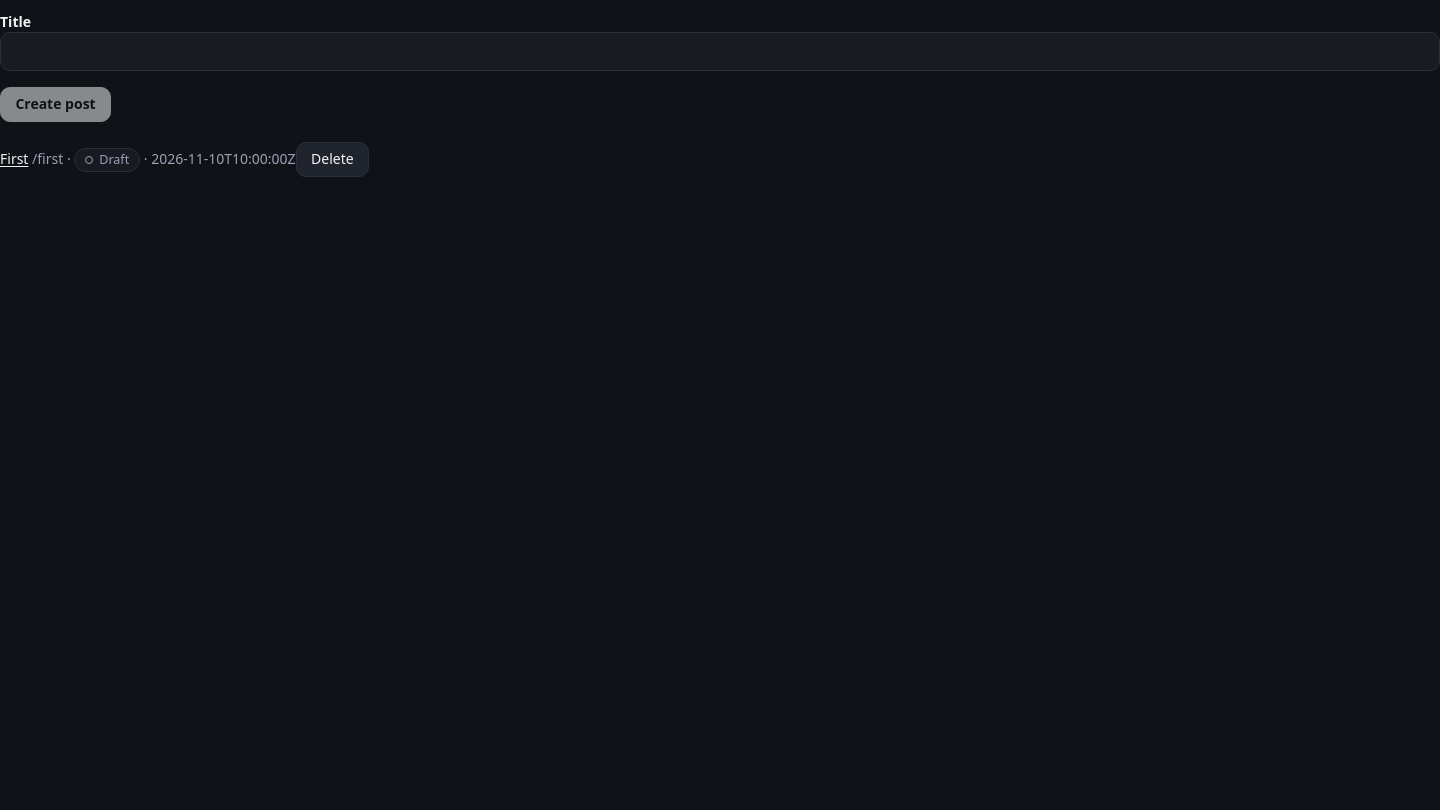
Test: Keep it closes the dialog and sends nothing; Escape does the same
Click the button with aria-label "Delete First" at (332, 159), box [296,142,369,177]
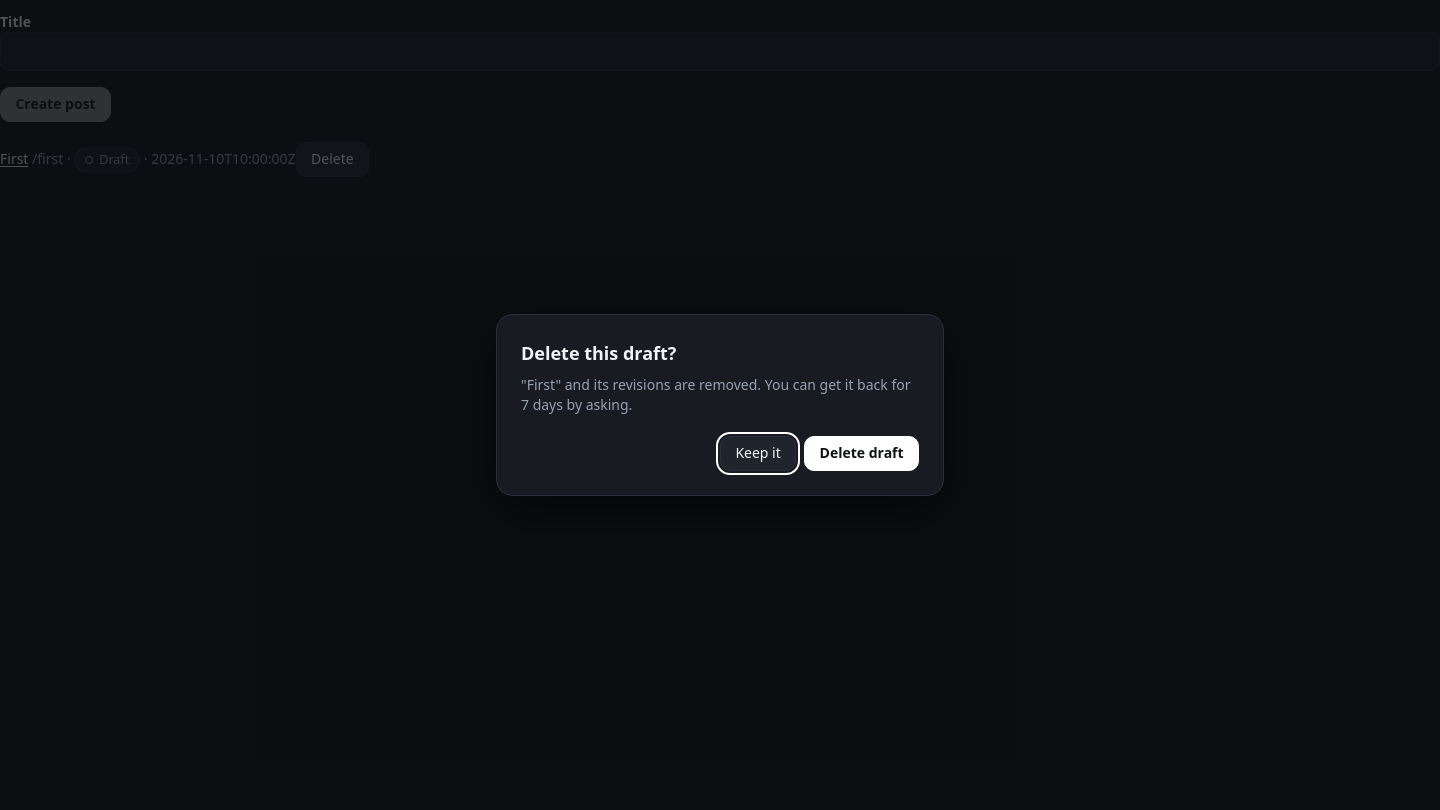
Now the dialog is shown, box [496,314,944,496]
Click the button "Keep it" at (758, 453), box [720,436,796,471]
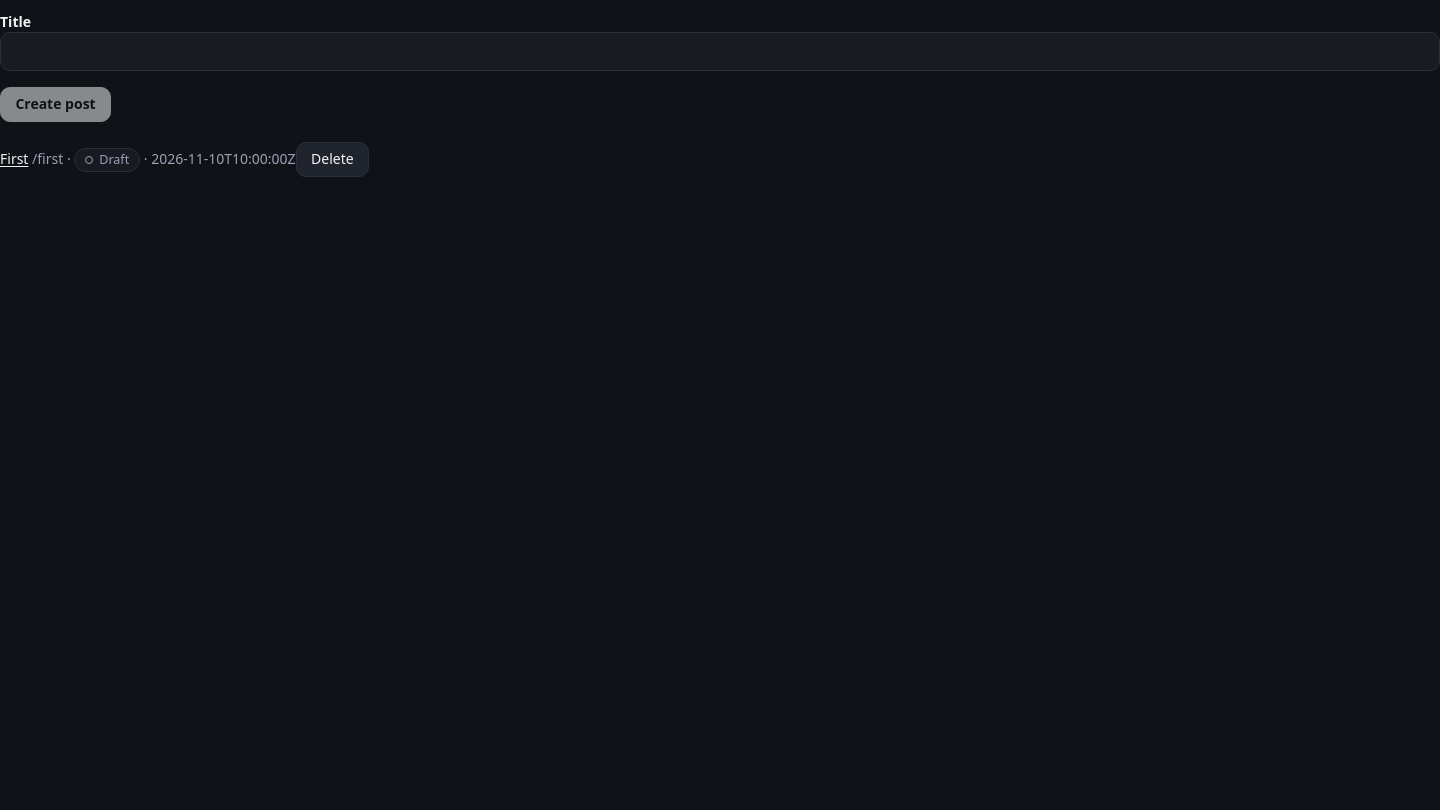
Now the dialog is gone
Click the button with aria-label "Delete First" at (332, 159), box [296,142,369,177]
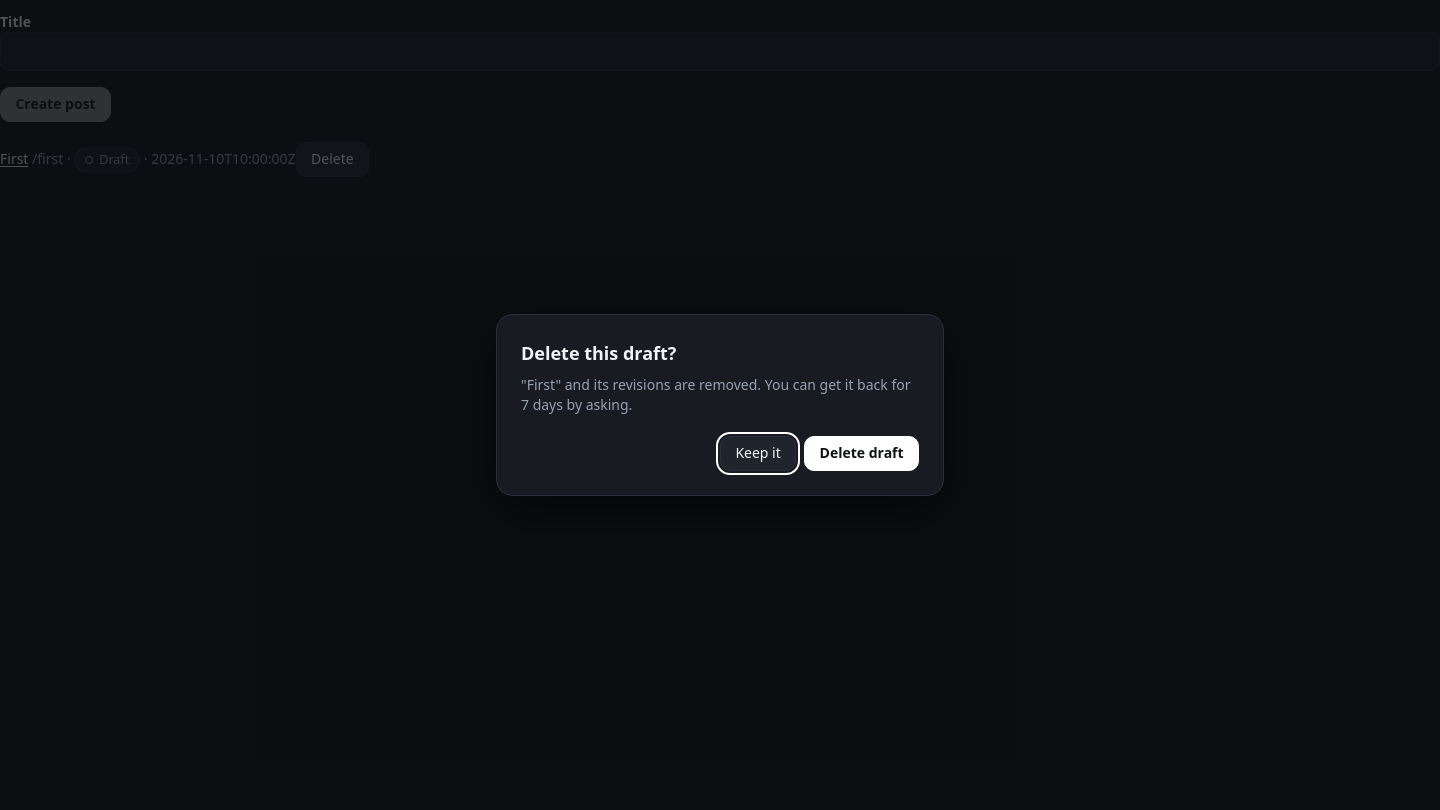
Press Escape in the dialog, box [496,314,944,496]
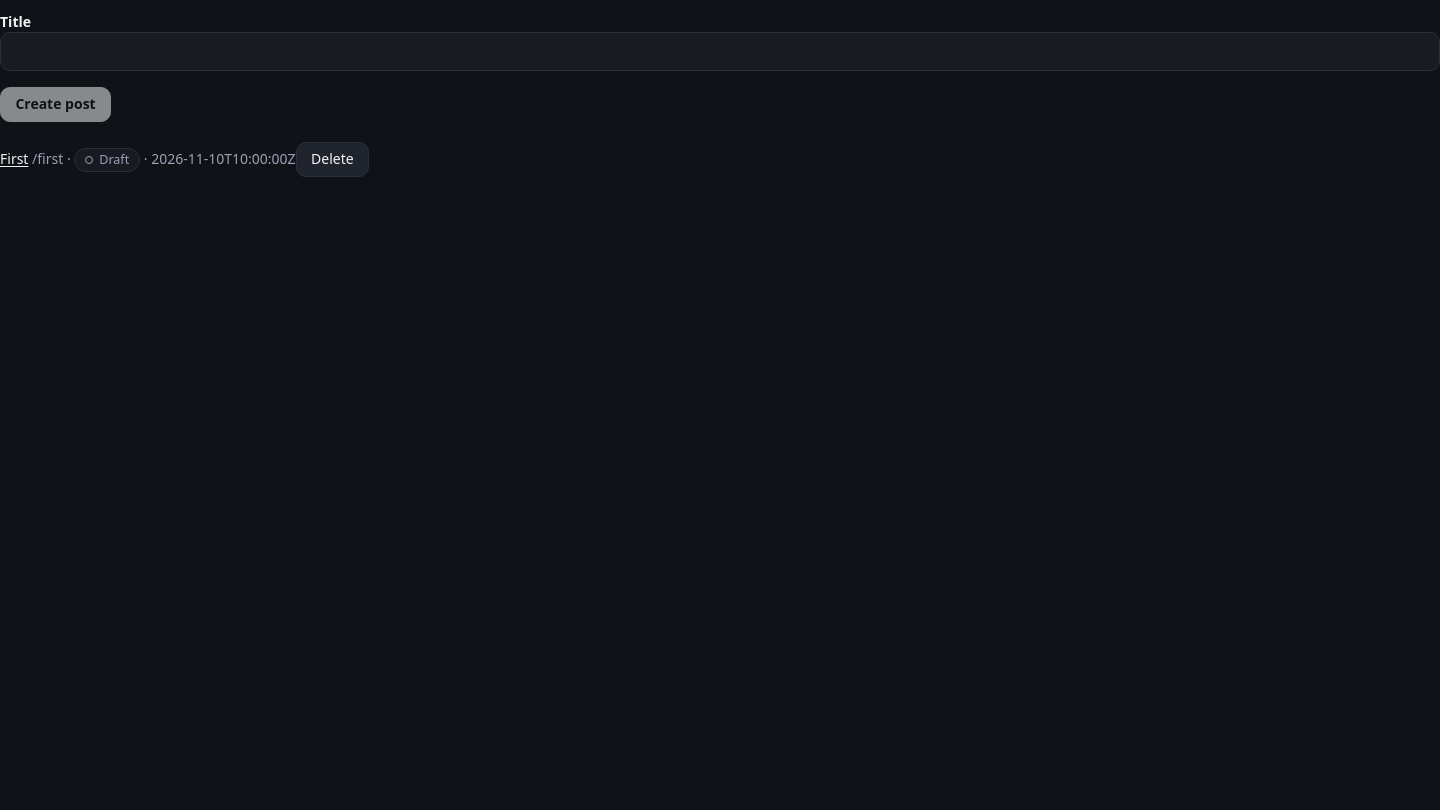
Expected: the link "First" is shown, [0,149,28,168]
Now the dialog is gone
